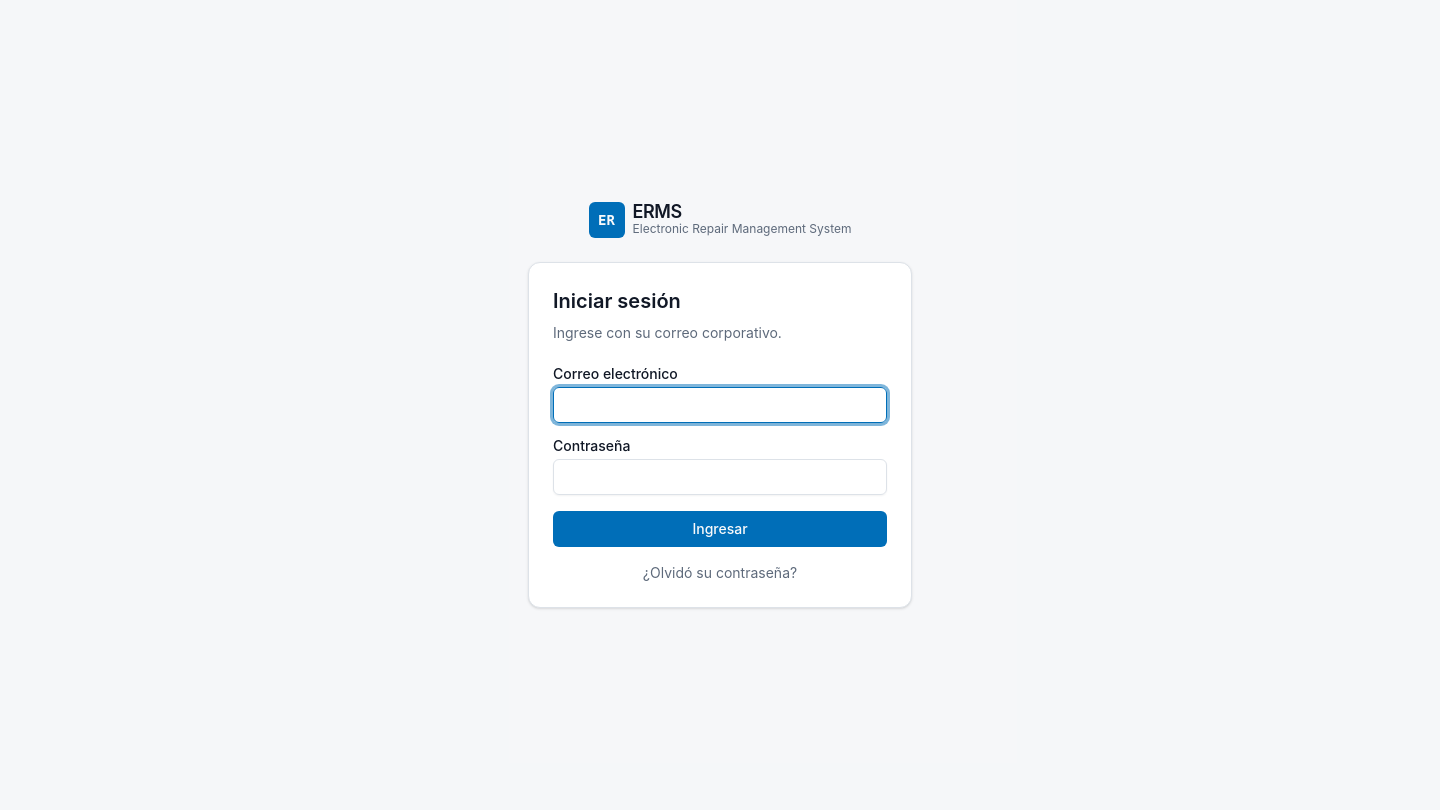
LoginPage › sends users with a temporary password to change it
Type "supervisor@example.com" into the field labelled "Correo electrónico" at (720, 405), box [553,387,887,423]
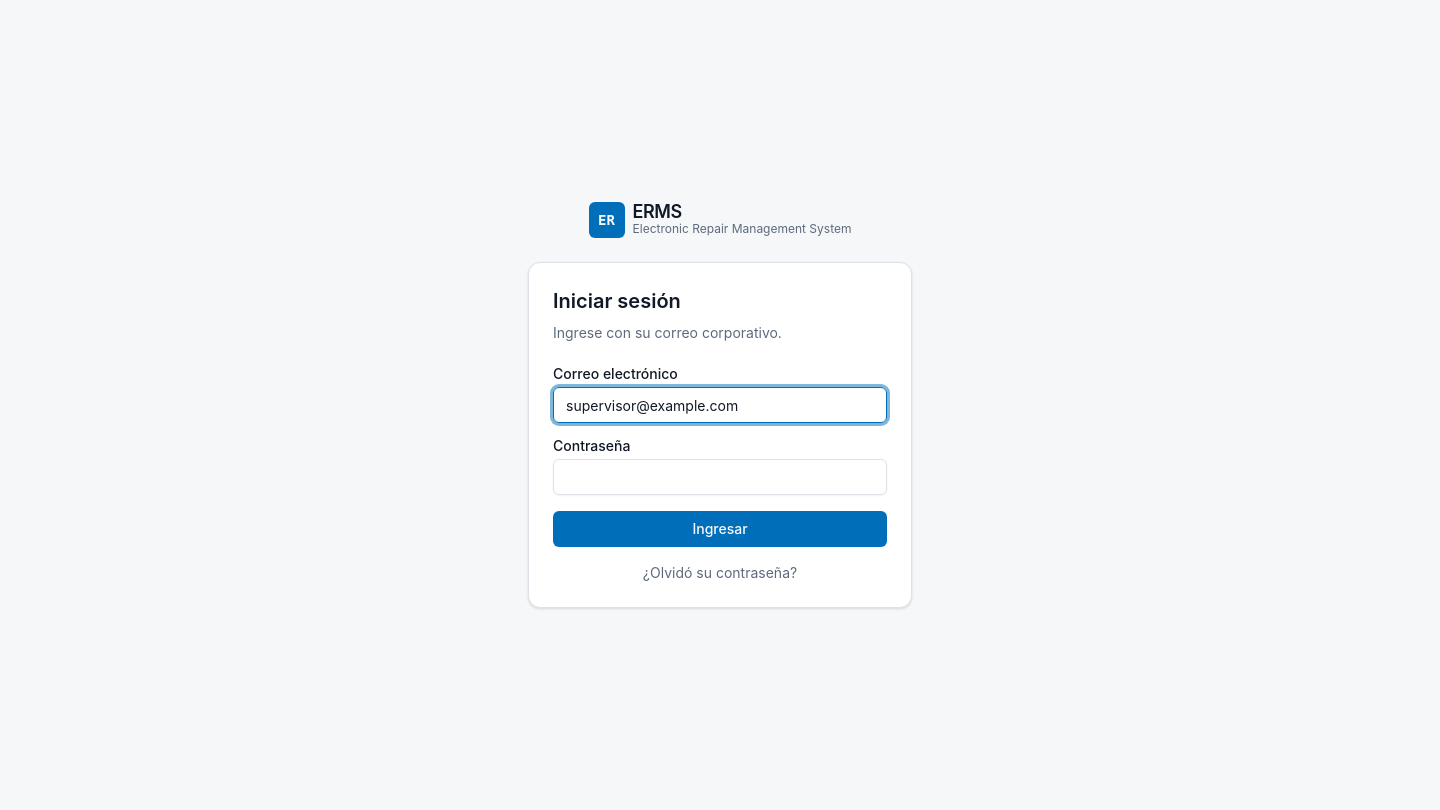
Type "una-clave" into the password field labelled "Contraseña" at (720, 477), box [553,459,887,495]
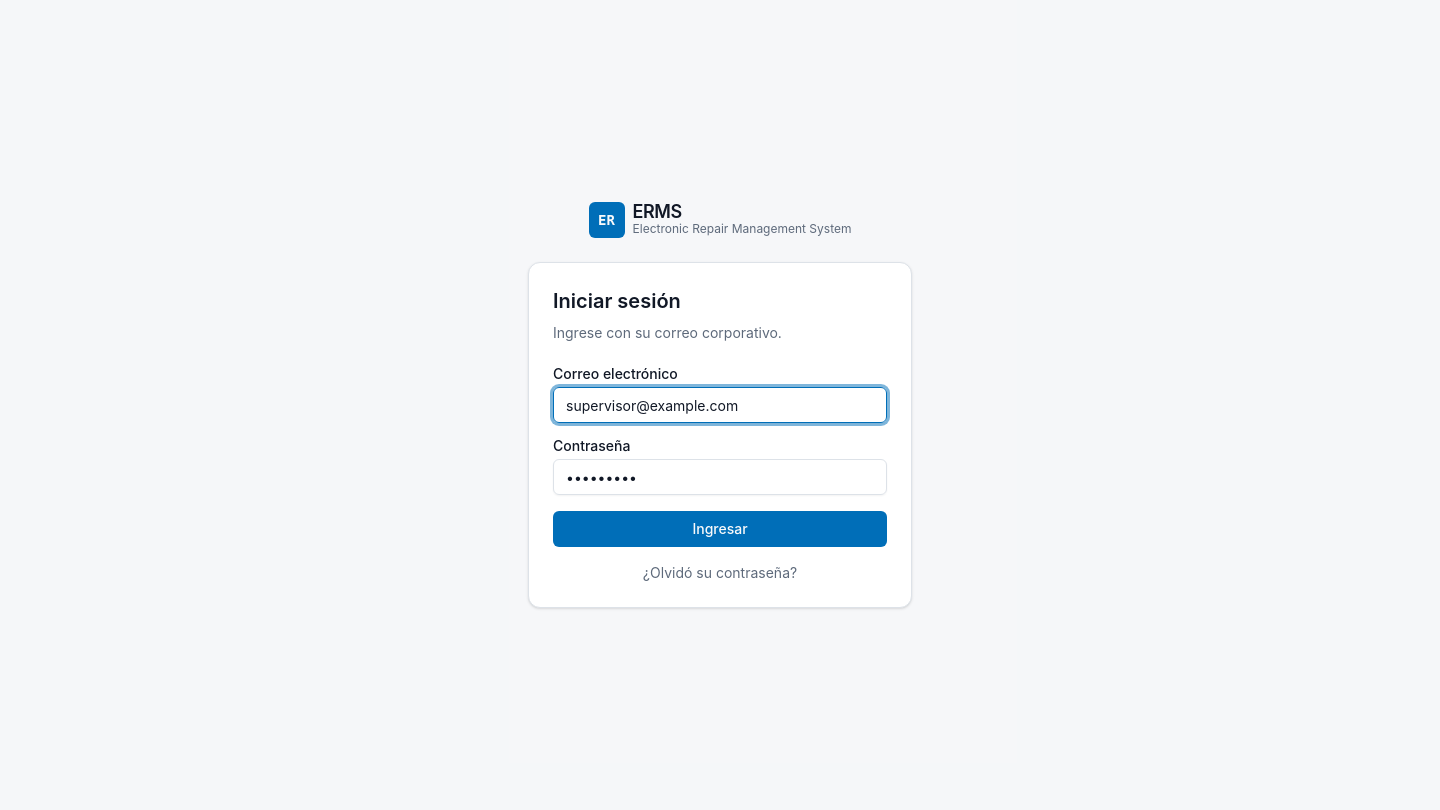
Click the button "Ingresar" at (720, 529), box [553,511,887,547]
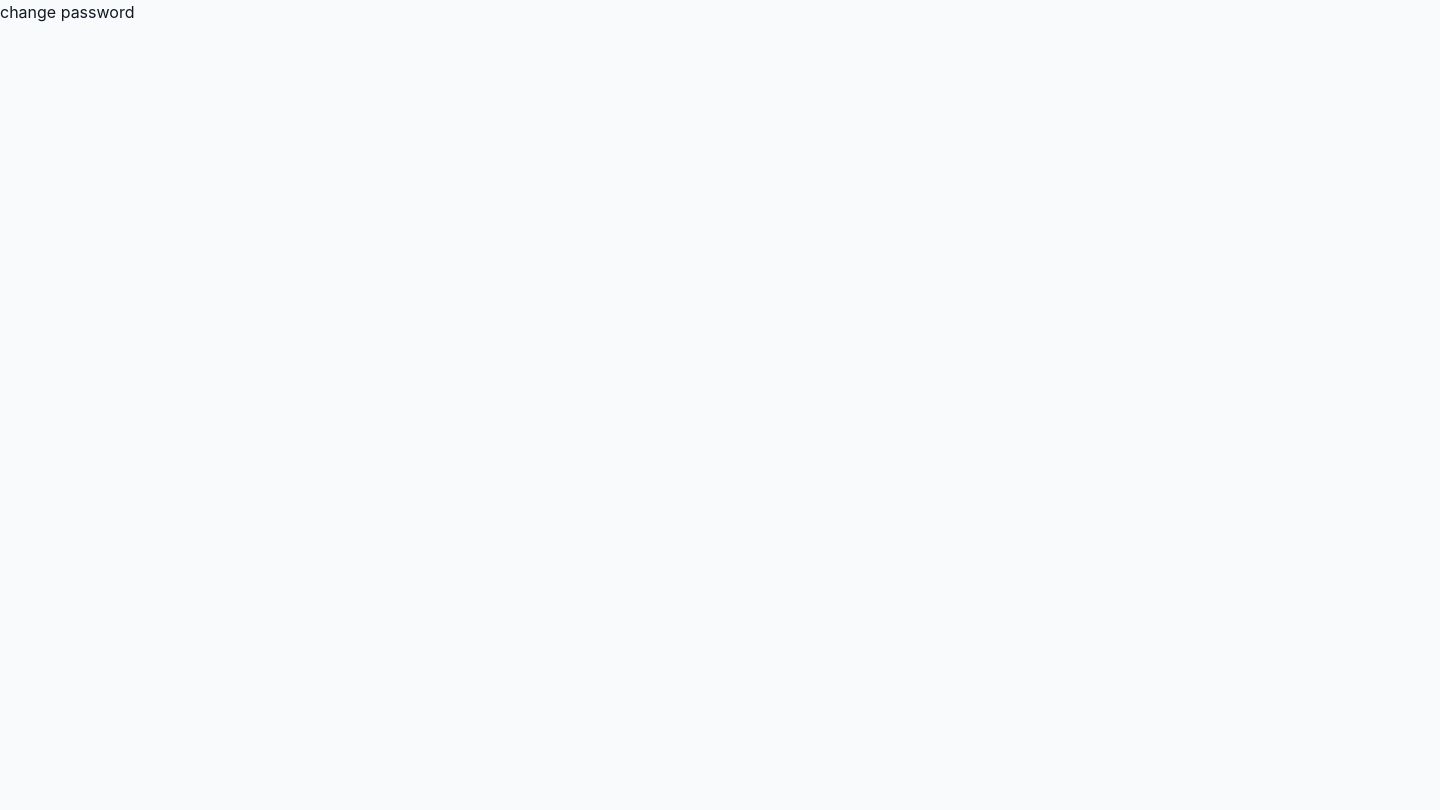
expect the text "change password" is shown: met, box [0,2,134,22]
